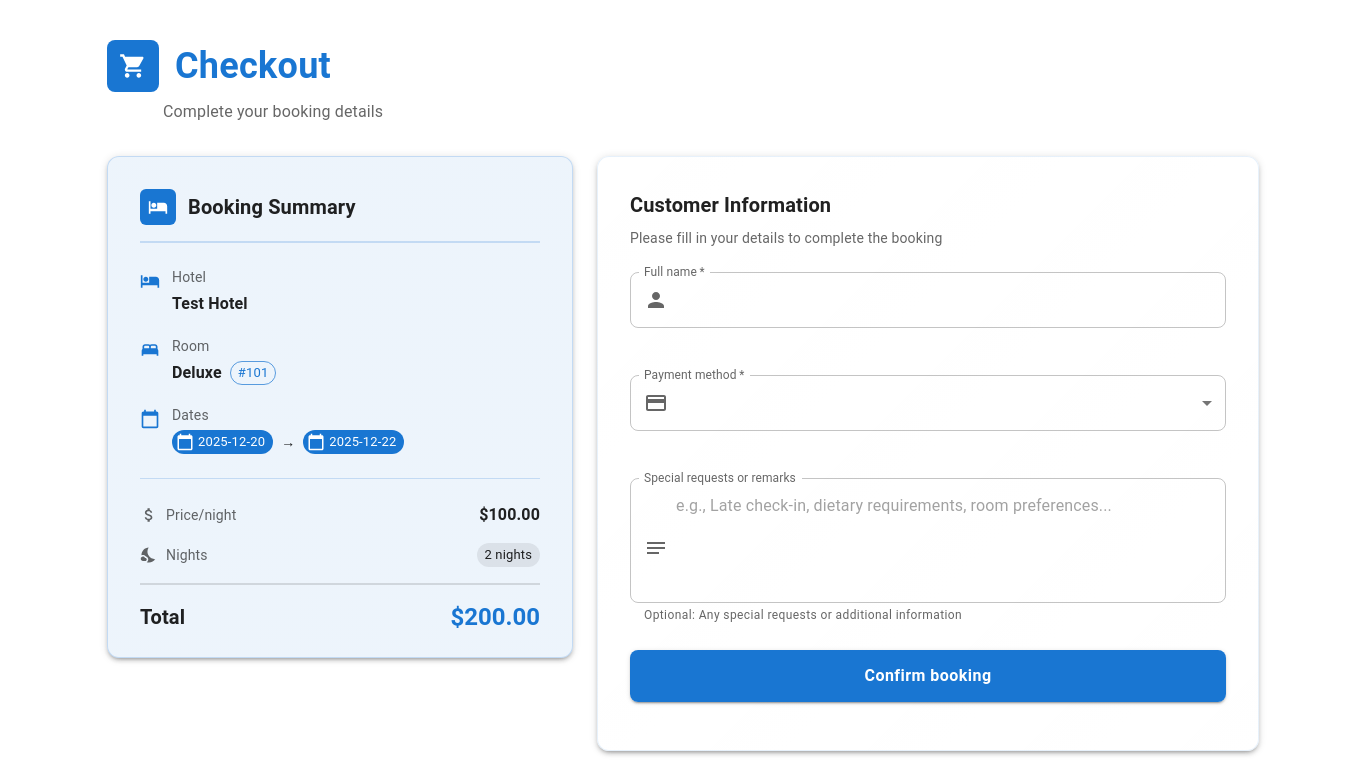
it: Checkout › validates and submits booking
This screenshot has width=1366, height=768.
Click the button "Confirm booking". click: (928, 676)
box: [630,650,1226,702]
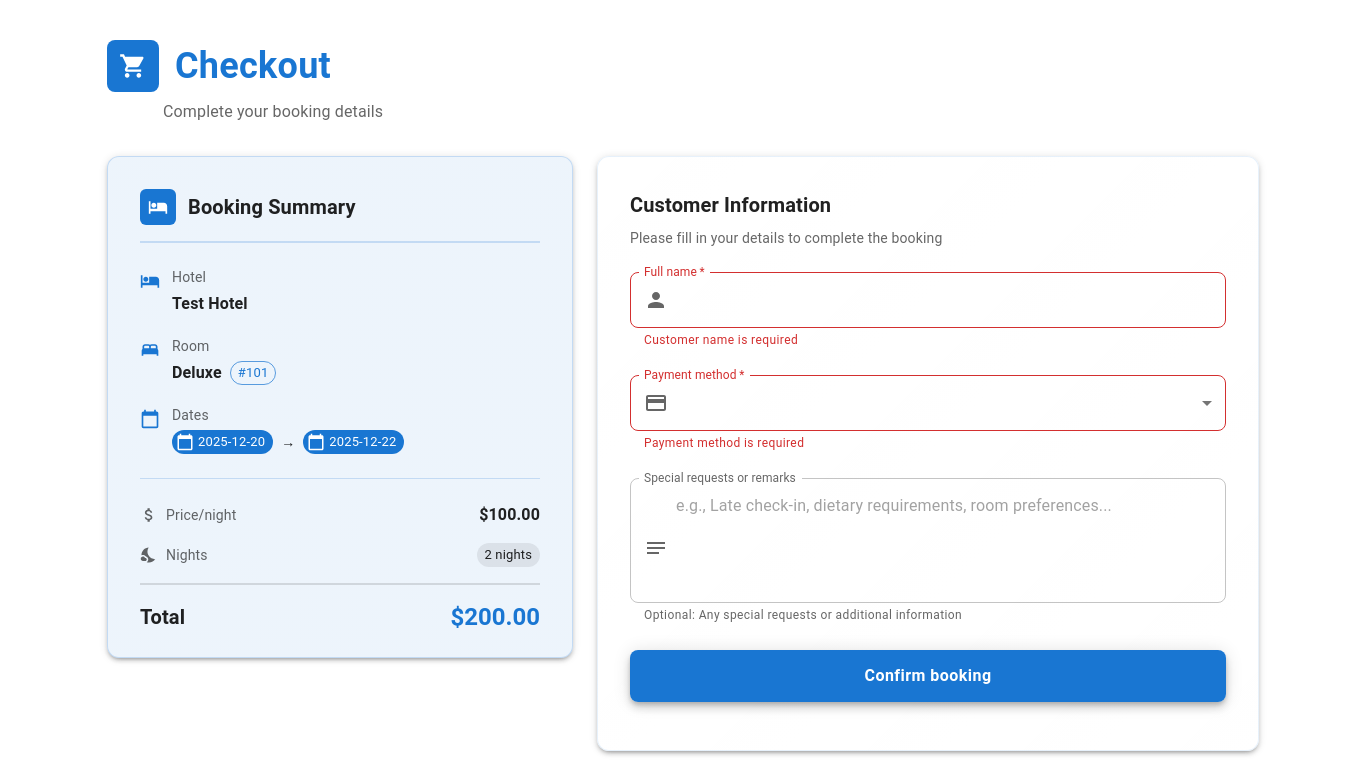
Result: the text "Customer name is required" is shown at [644,333,798,347]
Result: the text "Payment method is required" is shown at [644,436,804,450]
